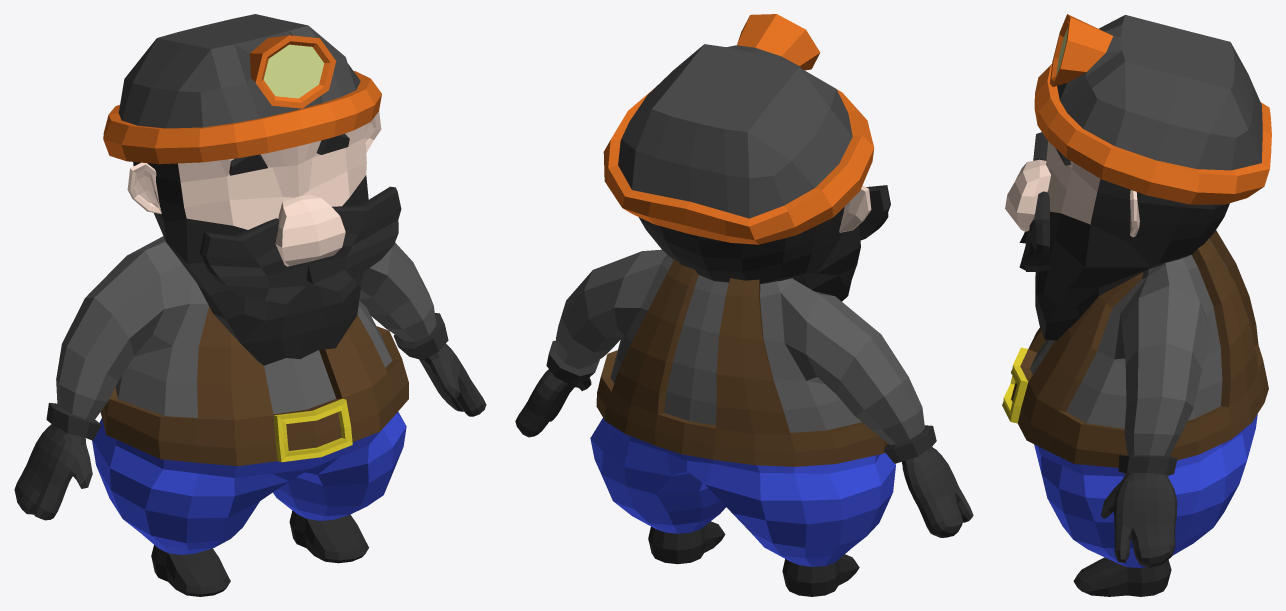
Rendered from mineiro_low.fbx.
3 views of the same model, side by side, from view 1: azimuth 30°, elevation 25°; view 2: azimuth 150°, elevation 25°; view 3: azimuth 270°, elevation 25° (orthographic). The views are drawn at different scales.
Visible parts, largest first — view 1: mineiro_low; view 2: mineiro_low; view 3: mineiro_low.
Part boxes in pixels (x1,y1,x2,y2): mineiro_low: (14,14,486,596); mineiro_low: (515,14,973,596); mineiro_low: (1002,14,1271,596).
Bounding box in the file's own units: 87.76 × 101 × 46.14.
